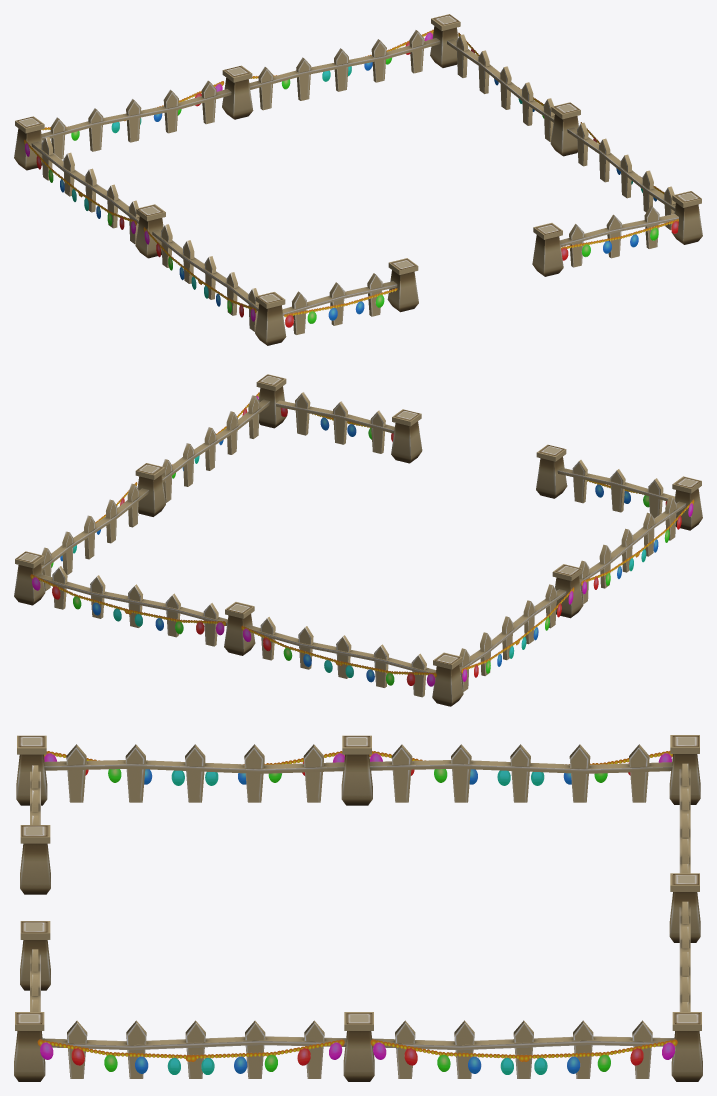
File: Fence_02.FBX
3 renders of one model, top to bottom at view 1: azimuth 30°, elevation 25°; view 2: azimuth 150°, elevation 25°; view 3: azimuth 270°, elevation 25°, orthographic. The views are drawn at different scales.
Visible parts, largest first — view 1: Fence_02; view 2: Fence_02; view 3: Fence_02.
Part boxes in pixels (x1,y1,x2,y2): Fence_02: (14,14,702,345); Fence_02: (14,374,702,706); Fence_02: (14,735,702,1081).
Bounding box in the file's own units: 3.66 × 0.3499 × 3.68.
